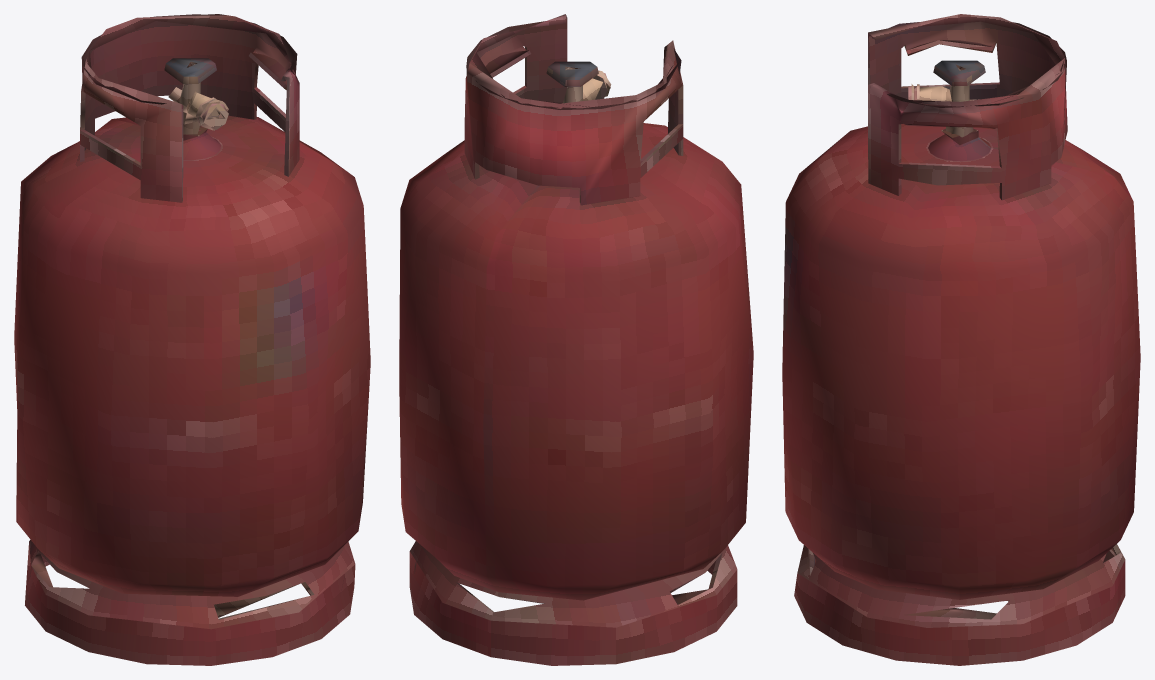
The model's file is propane_tank.glb.
The picture shows the model from 3 angles, left to right: view 1: azimuth 30°, elevation 25°; view 2: azimuth 150°, elevation 25°; view 3: azimuth 270°, elevation 25°; orthographic projection.
Visible parts, largest first — view 1: propane_tank; view 2: propane_tank; view 3: propane_tank.
Boxes of the visible parts, left/top/right/bottom form: propane_tank: left=14, top=14, right=370, bottom=665; propane_tank: left=399, top=14, right=753, bottom=665; propane_tank: left=782, top=14, right=1140, bottom=665.
Size of the model in its own units: 0.3309 by 0.5534 by 0.3341.
Materials: 1 (1 with a texture image).
